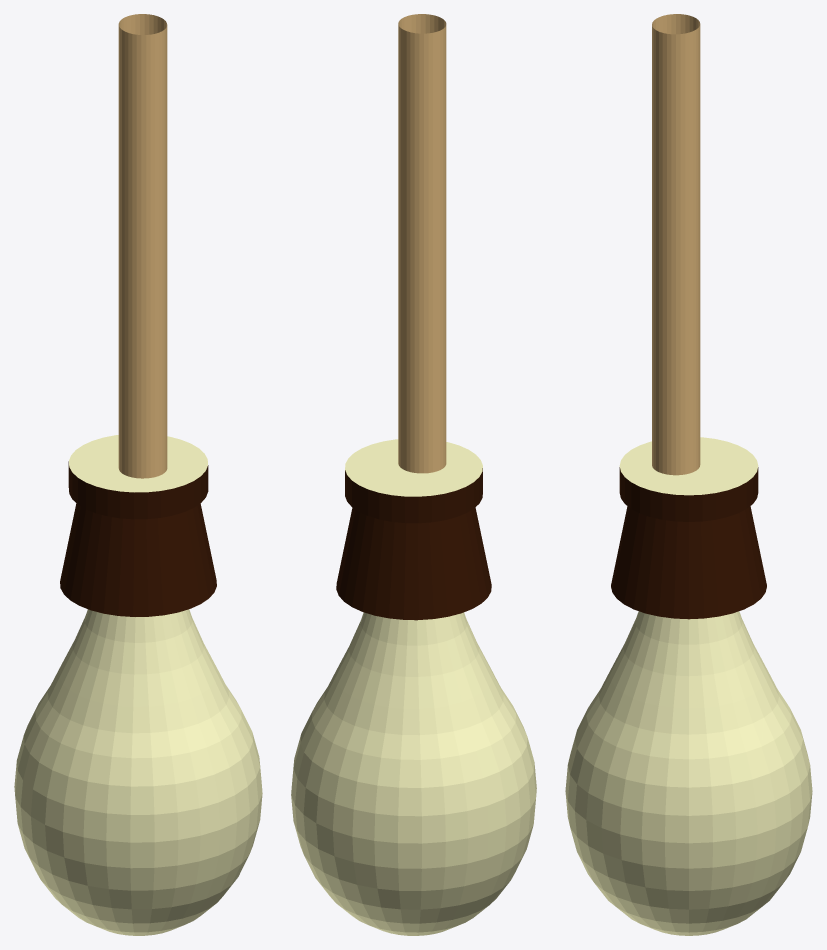
The model's file is Lightbuld.fbx.
The picture shows the model from 3 angles, left to right: view 1: azimuth 30°, elevation 25°; view 2: azimuth 150°, elevation 25°; view 3: azimuth 270°, elevation 25°; orthographic projection.
Visible parts, largest first — view 1: Sphere.001; view 2: Sphere.001; view 3: Sphere.001.
Boxes of the visible parts, x1,y1,x2,y2 form: Sphere.001: (14,14,262,935); Sphere.001: (291,14,536,935); Sphere.001: (565,14,812,935).
Size of the model in its own units: 0.0465 by 0.1871 by 0.0465.
